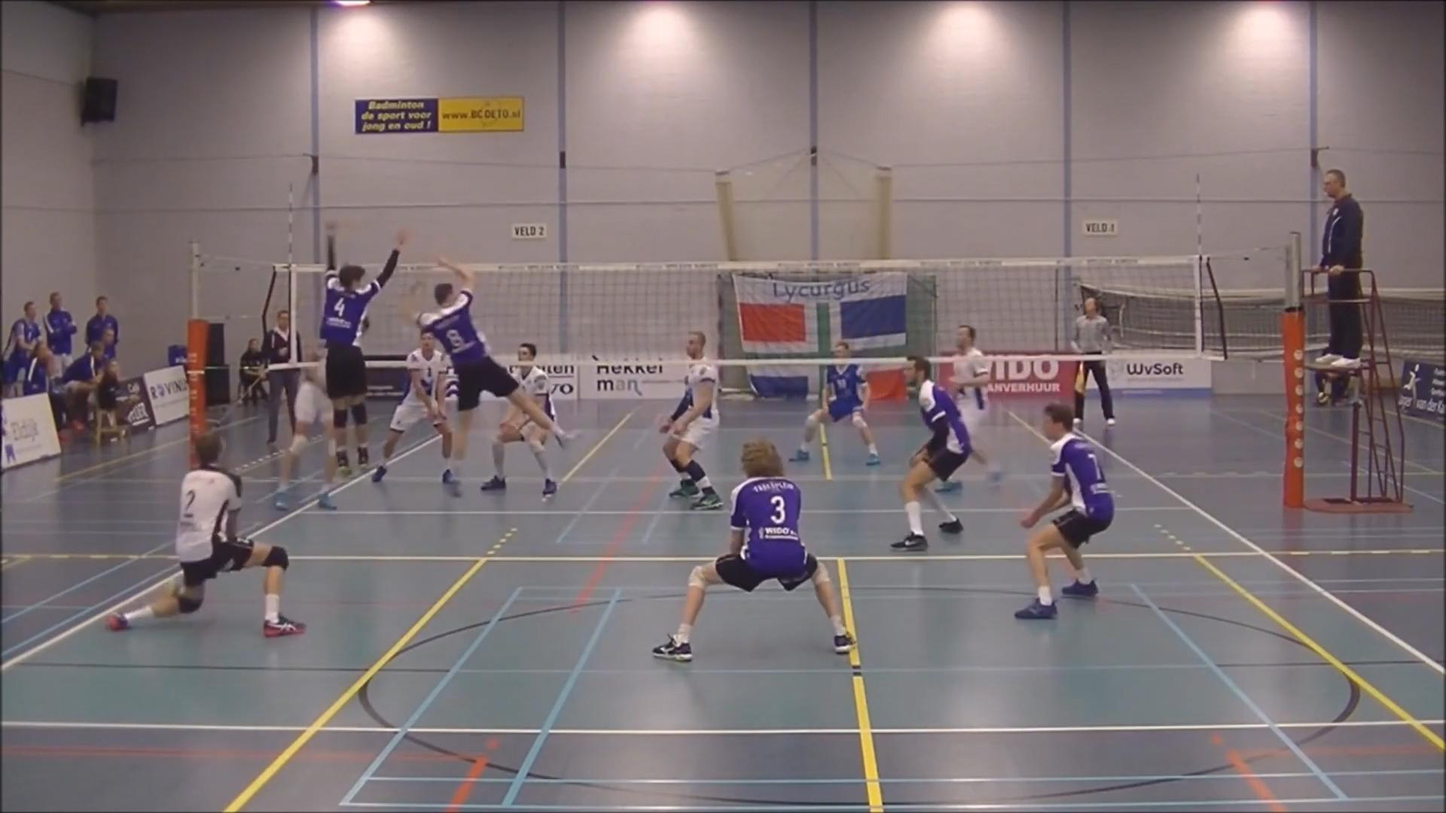Block: (411, 246, 585, 498), (294, 228, 411, 496)
Player: (652, 439, 855, 662), (108, 433, 304, 637), (1015, 403, 1114, 618), (891, 357, 971, 551), (371, 334, 459, 495), (660, 331, 722, 510), (791, 341, 880, 465), (274, 349, 338, 510), (949, 325, 1002, 483), (481, 406, 557, 497)
